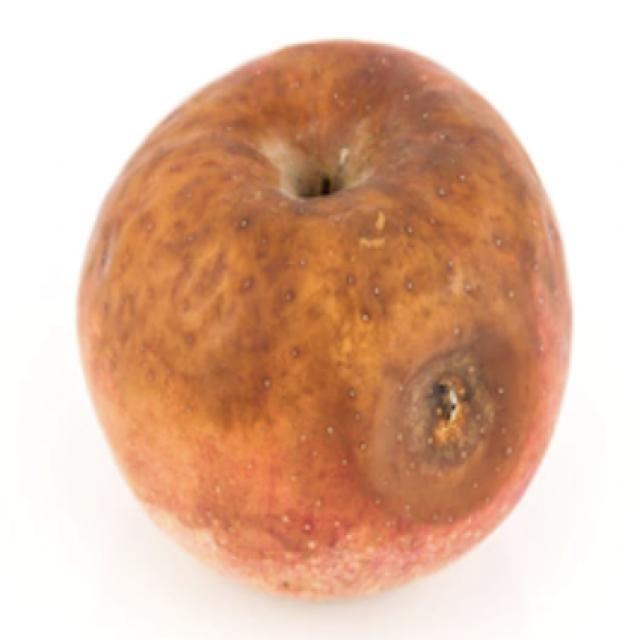Rotten: (73, 43, 575, 582)
